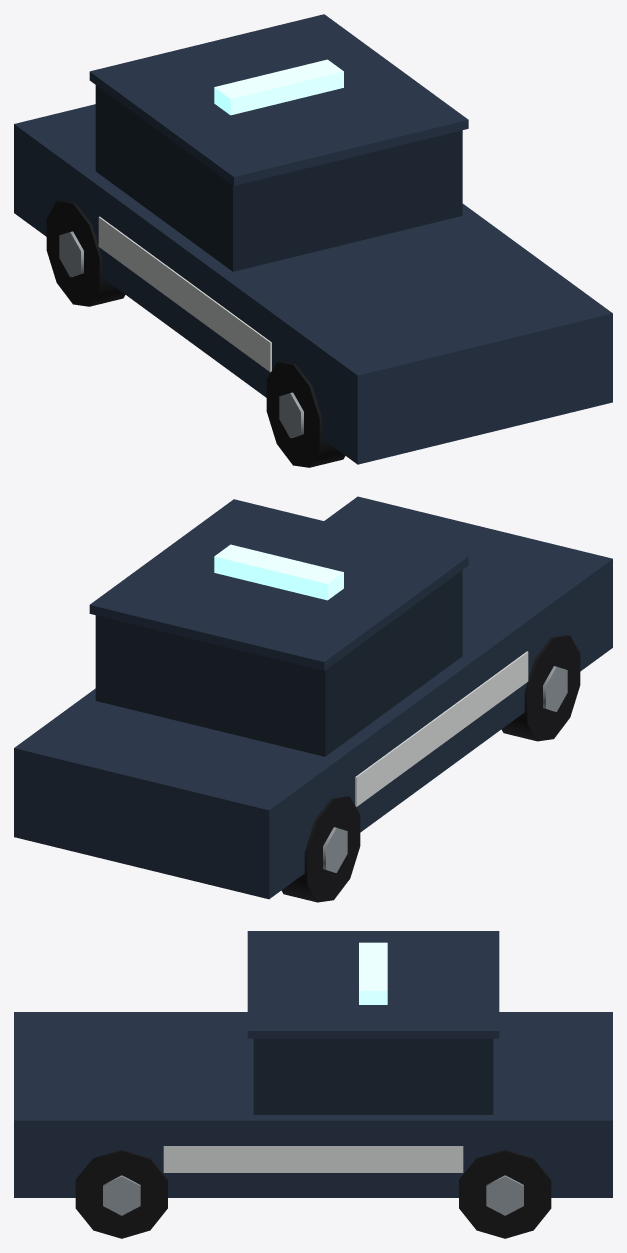
Rendered from veh_ground_police_car_a06.glb.
The picture shows the model from 3 angles, top to bottom: view 1: azimuth 30°, elevation 25°; view 2: azimuth 150°, elevation 25°; view 3: azimuth 270°, elevation 25°; orthographic projection. The views are drawn at different scales.
Visible parts, largest first — view 1: body, wheel_0, wheel_2; view 2: body, wheel_2, wheel_0; view 3: body, wheel_1, wheel_3.
Part boxes in pixels (x1=…): body: x1=14, y1=14, x2=612, y2=464; wheel_0: x1=46, y1=200, x2=125, y2=306; wheel_2: x1=266, y1=361, x2=345, y2=467; body: x1=14, y1=496, x2=612, y2=899; wheel_2: x1=501, y1=635, x2=580, y2=741; wheel_0: x1=281, y1=796, x2=360, y2=902; body: x1=14, y1=931, x2=612, y2=1197; wheel_1: x1=459, y1=1150, x2=551, y2=1238; wheel_3: x1=75, y1=1150, x2=167, y2=1238.
Size of what is drawn, in the model's own units: 1.88 by 1.68 by 4.2.
